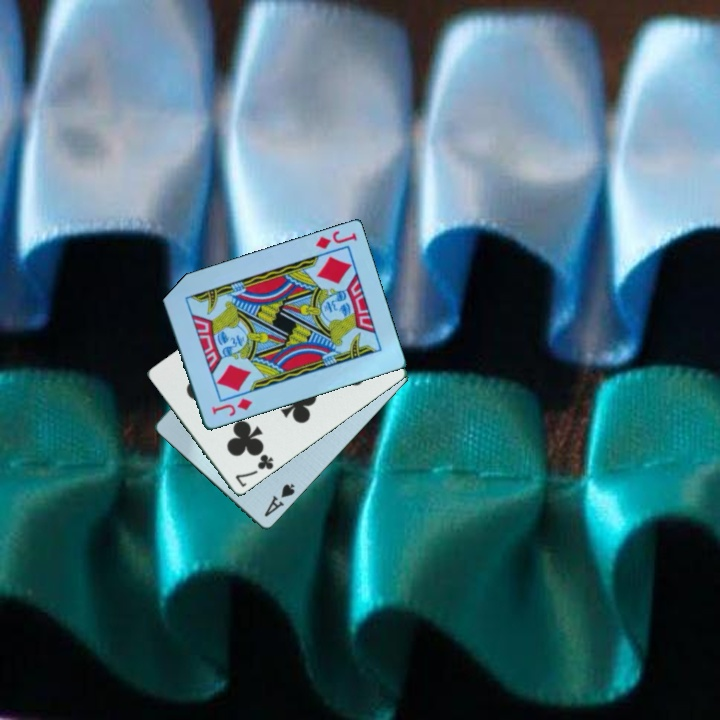7c: (231, 451, 276, 491)
As: (260, 480, 298, 520)
Jd: (312, 227, 360, 253), (208, 395, 255, 420)
